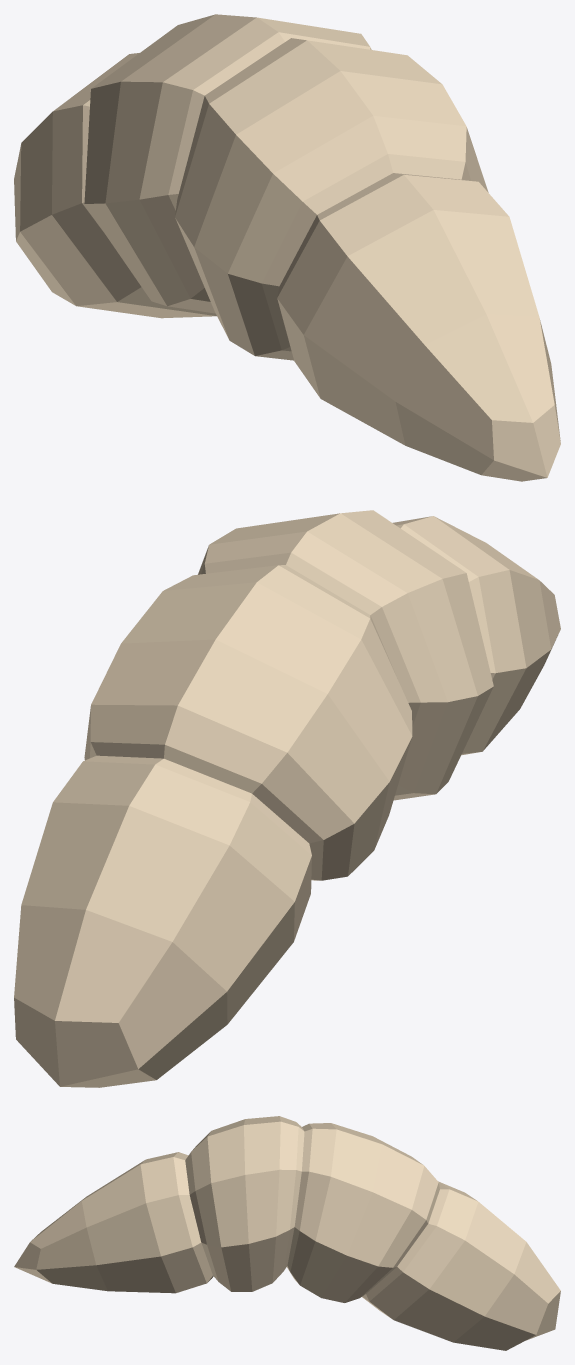
File: BeeEgg.fbx
3 views of the same model, one above another, from view 1: azimuth 30°, elevation 25°; view 2: azimuth 150°, elevation 25°; view 3: azimuth 270°, elevation 25° (orthographic). The views are drawn at different scales.
Visible parts, largest first — view 1: Cube.002; view 2: Cube.002; view 3: Cube.002.
Boxes of the visible parts, x1=… form: Cube.002: x1=14, y1=14, x2=560, y2=481; Cube.002: x1=14, y1=510, x2=560, y2=1087; Cube.002: x1=14, y1=1116, x2=560, y2=1350.
Size of the model in its own units: 181 by 245 by 542.
